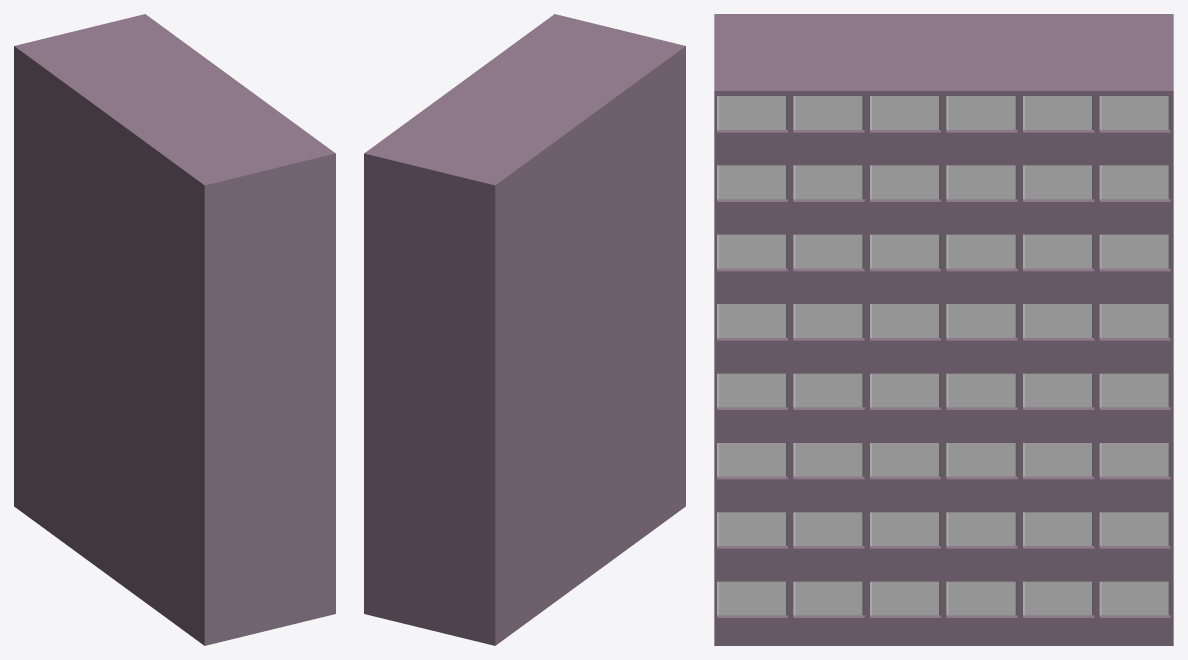
Rendered from commieBlock_-_Copy.fbx.
3 views of the same model, side by side, from view 1: azimuth 30°, elevation 25°; view 2: azimuth 150°, elevation 25°; view 3: azimuth 270°, elevation 25° (orthographic). The views are drawn at different scales.
Parts seen in each view (by area): view 1: Cube; view 2: Cube; view 3: Cube.
Part boxes in pixels (x1,y1,x2,y2): Cube: [14, 14, 335, 645]; Cube: [364, 14, 685, 645]; Cube: [714, 14, 1173, 645].
Bounding box in the file's own units: 477 × 1600 × 1200.
